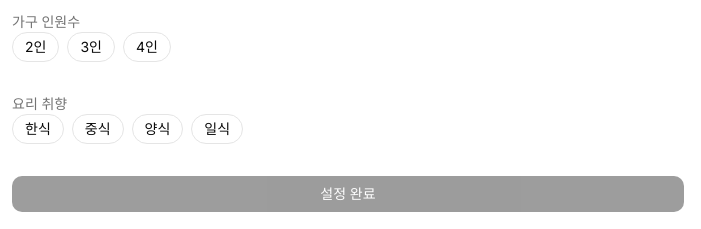
it: 인원수와 취향을 모두 고르기 전에는 완료할 수 없다
Expected: the button "설정 완료" is disabled, 12,176 -> 684,212
Click the button "3인" at (91, 47), box 67,32 -> 115,62
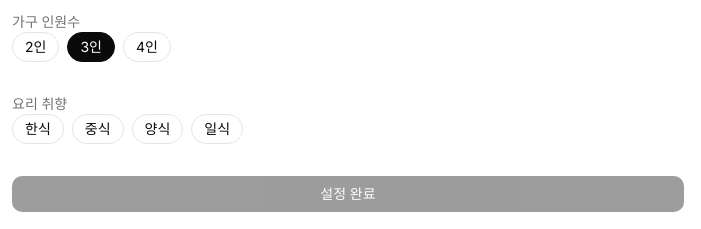
Expected: the button "설정 완료" is disabled, 12,176 -> 684,212
Click the button "한식" at (38, 129), box 12,114 -> 64,144
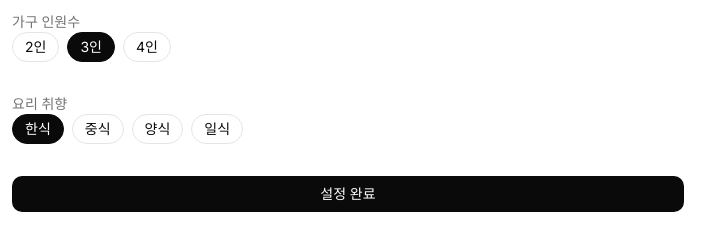
Now the button "설정 완료" is enabled, box 12,176 -> 684,212
